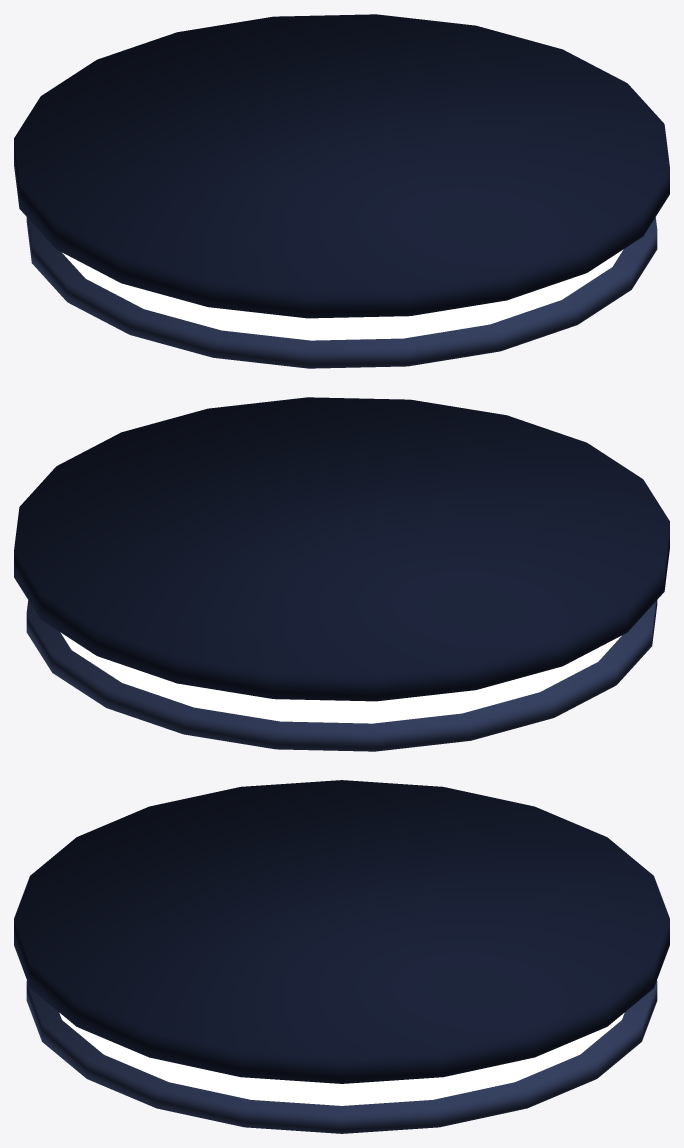
The model's file is lampe.glb.
The picture shows the model from 3 angles, top to bottom: view 1: azimuth 30°, elevation 25°; view 2: azimuth 150°, elevation 25°; view 3: azimuth 270°, elevation 25°; orthographic projection.
Parts seen in each view (by area): view 1: Cadre, Bord, Lumiere; view 2: Cadre, Bord, Lumiere; view 3: Cadre, Bord, Lumiere.
Boxes of the visible parts, x1,y1,x2,y2 form: Cadre: [14, 14, 669, 318]; Bord: [26, 217, 657, 368]; Lumiere: [62, 249, 623, 340]; Cadre: [14, 397, 669, 701]; Bord: [26, 600, 657, 751]; Lumiere: [60, 632, 621, 723]; Cadre: [14, 780, 669, 1083]; Bord: [26, 981, 657, 1133]; Lumiere: [59, 1013, 624, 1105].
Size of the model in its own units: 1.56 by 0.215 by 1.56.
